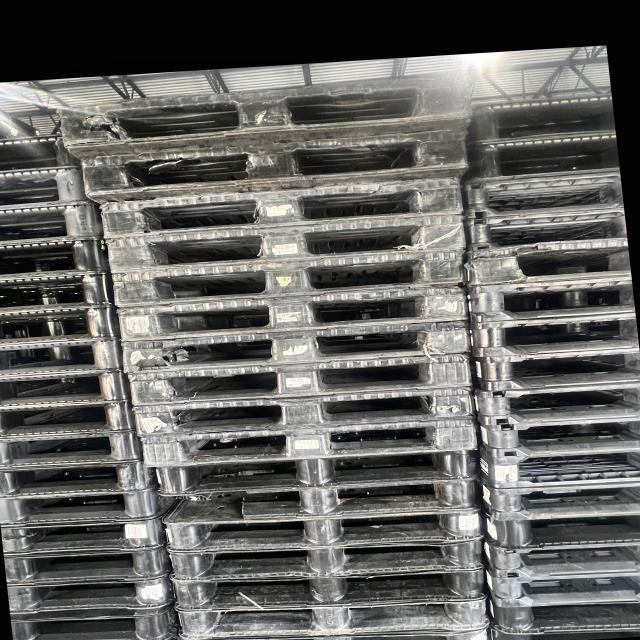igps: (52, 59, 480, 162), (74, 114, 478, 209), (94, 165, 472, 245), (94, 203, 473, 280), (106, 241, 474, 314), (111, 278, 475, 349), (119, 315, 475, 379), (121, 348, 478, 411), (132, 411, 484, 473), (126, 382, 482, 441), (148, 443, 480, 503), (150, 470, 483, 529), (156, 504, 489, 560), (162, 530, 494, 586), (170, 590, 499, 640), (165, 564, 493, 614), (459, 201, 640, 261), (462, 268, 640, 329), (456, 164, 640, 223), (465, 306, 640, 366), (460, 235, 640, 292), (462, 341, 640, 398), (466, 88, 626, 151), (467, 375, 640, 433), (458, 128, 627, 185), (471, 437, 640, 494), (475, 498, 640, 554), (477, 532, 640, 584), (480, 588, 640, 639), (478, 564, 640, 612), (0, 578, 180, 619), (472, 413, 640, 455), (468, 478, 640, 518), (7, 604, 187, 640), (0, 548, 179, 582), (0, 268, 120, 316), (2, 232, 116, 282), (0, 462, 165, 495), (0, 197, 110, 244), (0, 522, 171, 552), (0, 304, 125, 345), (0, 372, 136, 408), (0, 492, 176, 519), (0, 402, 141, 435), (0, 164, 92, 214), (0, 341, 128, 376), (0, 434, 148, 464), (0, 133, 85, 178), (0, 105, 77, 146)
